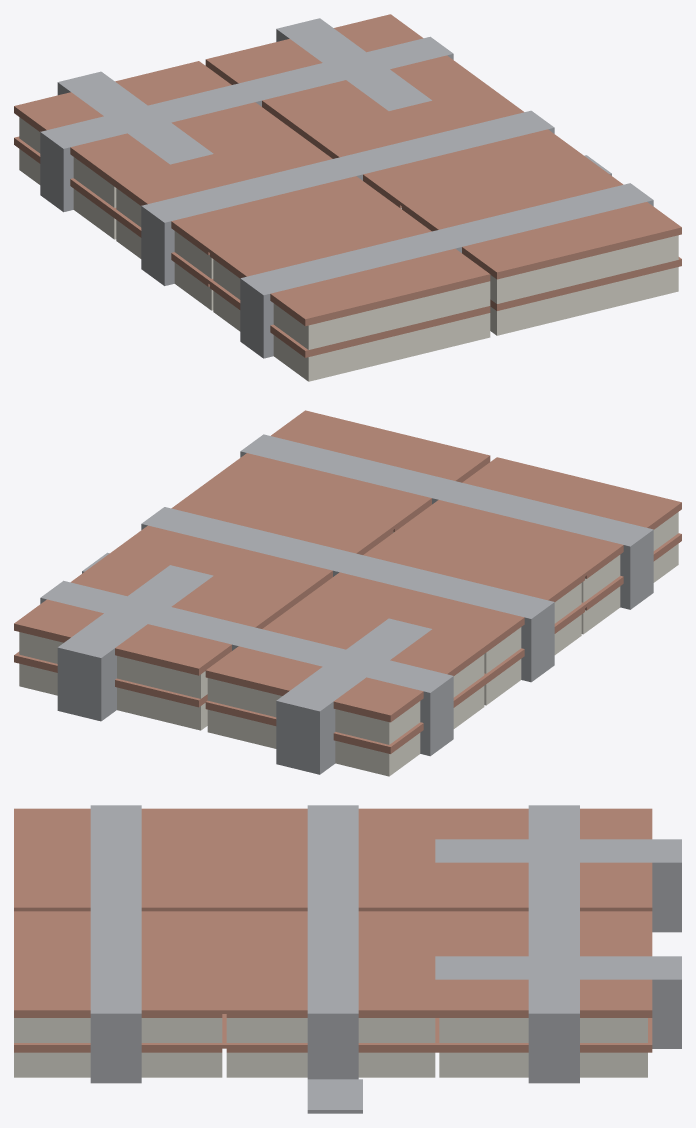
File: bookplate.glb
The picture shows the model from 3 angles, top to bottom: view 1: azimuth 30°, elevation 25°; view 2: azimuth 150°, elevation 25°; view 3: azimuth 270°, elevation 25°; orthographic projection. The views are drawn at different scales.
Parts seen in each view (by area): view 1: bookplate:compound; view 2: bookplate:compound; view 3: bookplate:compound.
Boxes of the visible parts, x1=… form: bookplate:compound: x1=14, y1=14, x2=681, y2=381; bookplate:compound: x1=14, y1=410, x2=681, y2=776; bookplate:compound: x1=14, y1=805, x2=681, y2=1113.
Size of the model in its own units: 0.532 by 0.072 by 0.628.
